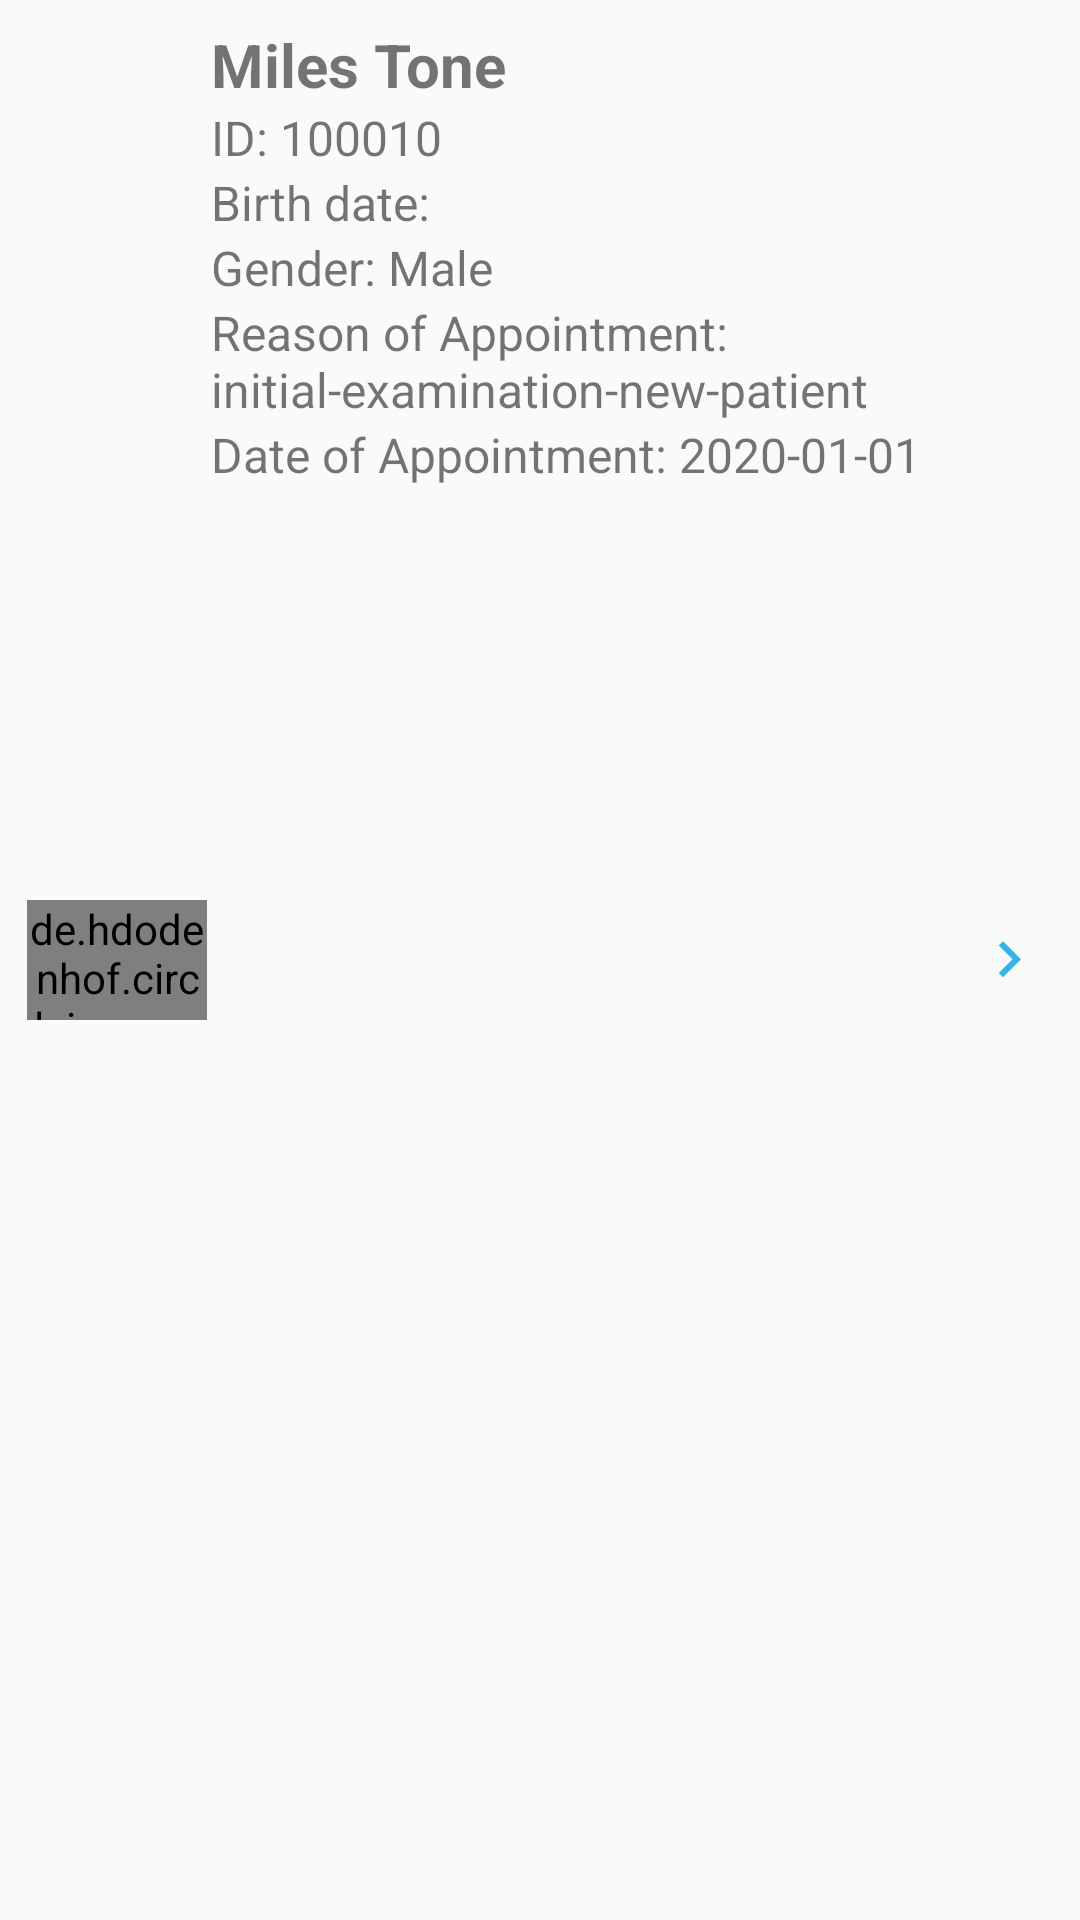

Where icons sit on this 1080×1920 app screen, as (x1, y1, x2, y2):
arrow right: (999, 941, 1021, 977)
